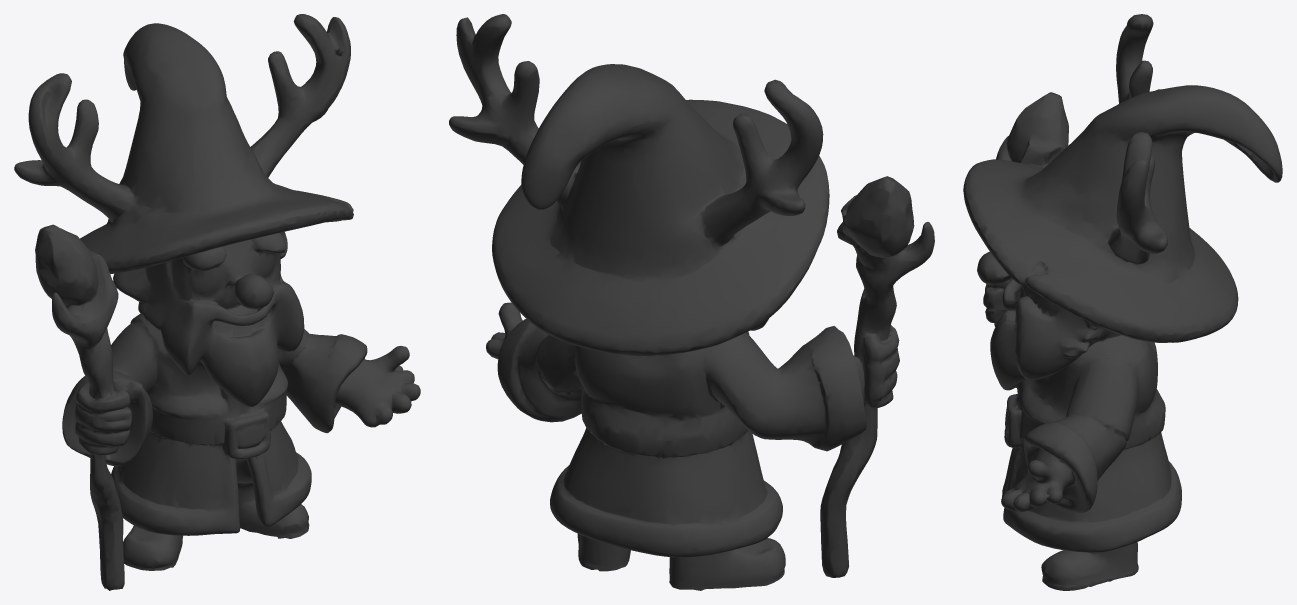
Rendered from sk_rayo_reno.glb.
3 renders of one model, left to right at view 1: azimuth 30°, elevation 25°; view 2: azimuth 150°, elevation 25°; view 3: azimuth 270°, elevation 25°, orthographic. The views are drawn at different scales.
Visible parts, largest first — view 1: geometry_0; view 2: geometry_0; view 3: geometry_0.
Part boxes in pixels (bbox=[...]): geometry_0: bbox=[14, 14, 420, 590]; geometry_0: bbox=[449, 14, 934, 590]; geometry_0: bbox=[963, 14, 1282, 590].
Bounding box in the file's own units: 0.8014 × 0.9655 × 0.5877.
Materials: 1 (1 with a texture image).
